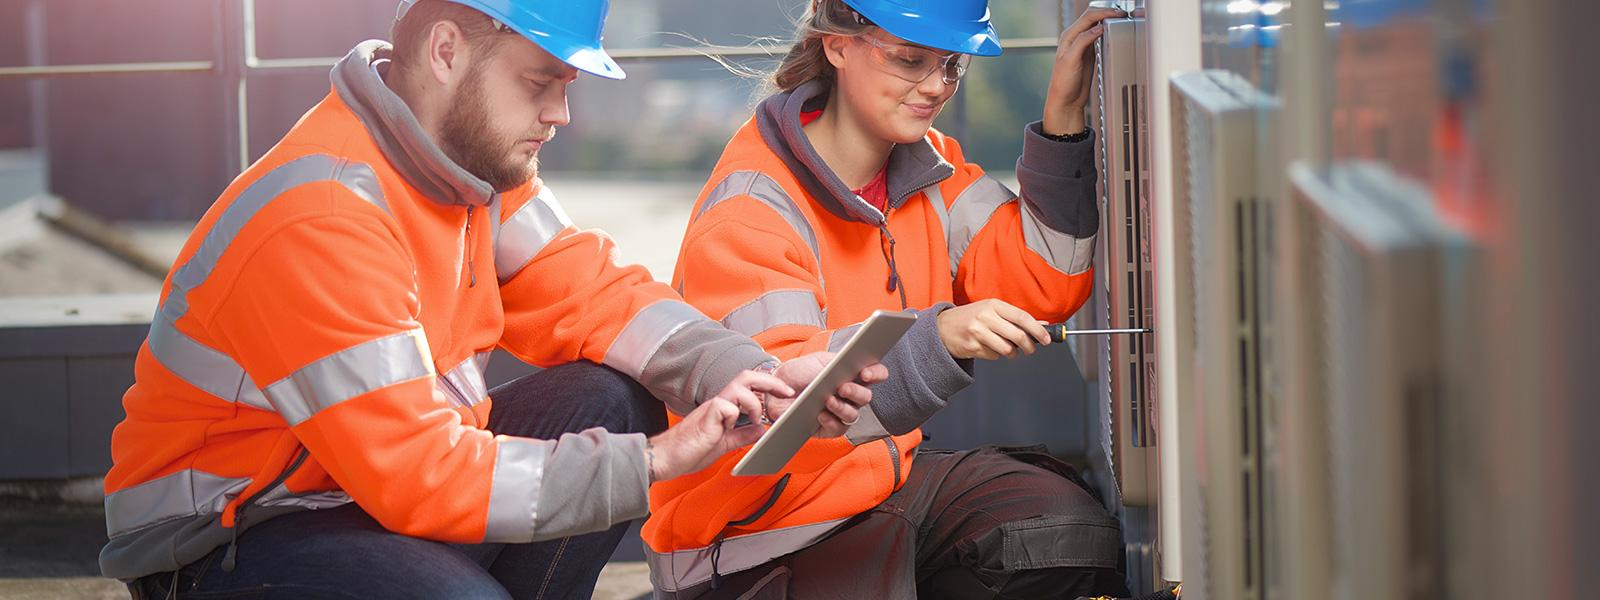helmet: (390, 1, 627, 83), (807, 1, 1004, 58)
